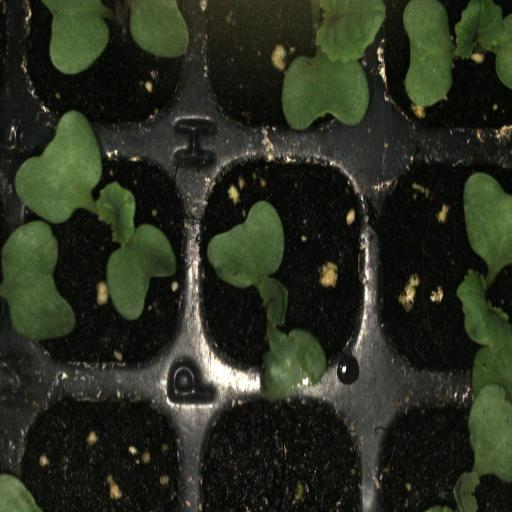seedling: (195, 144, 371, 377), (372, 143, 512, 382), (196, 0, 373, 145), (371, 0, 512, 145)
